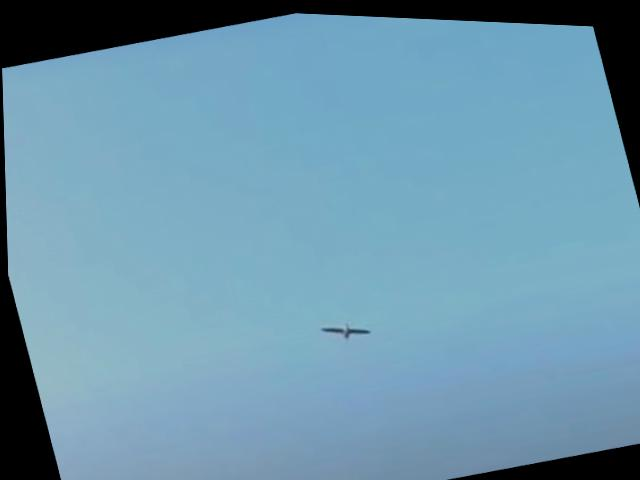iha: (319, 314, 369, 341)
